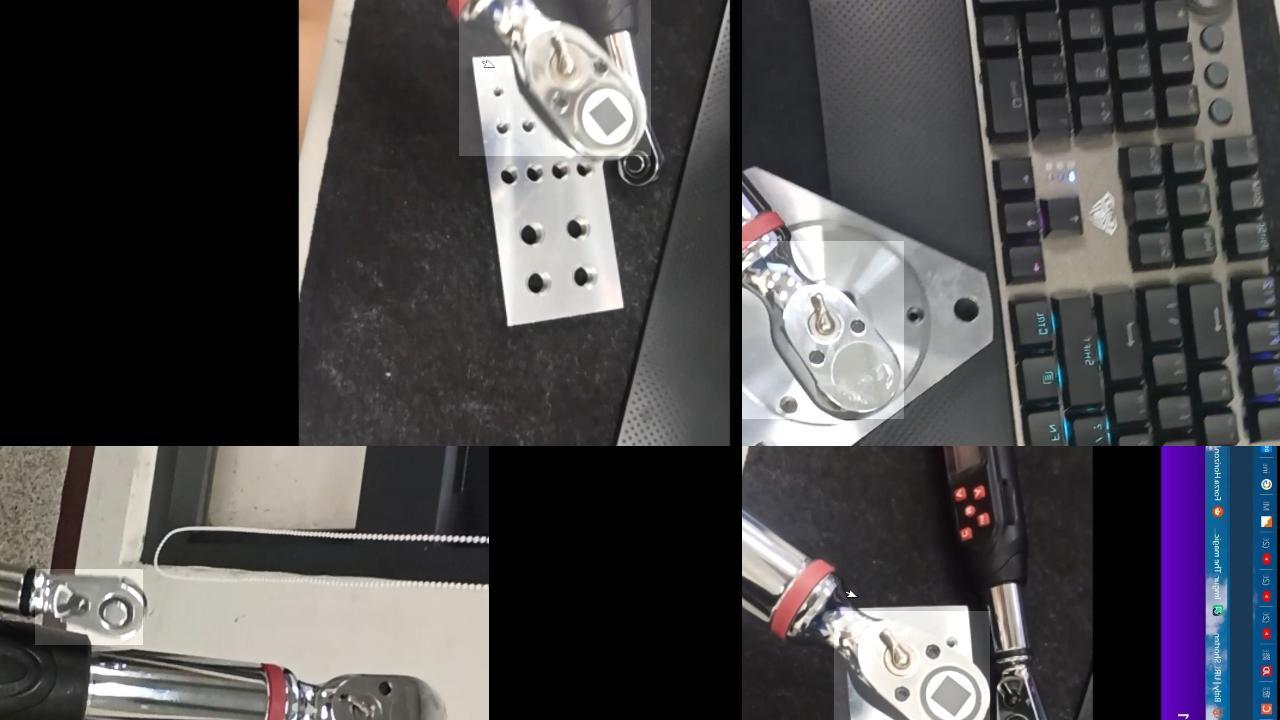Tool: (458, 0, 650, 156), (742, 241, 903, 419), (833, 611, 989, 720), (34, 569, 142, 645), (299, 669, 446, 720), (987, 666, 1047, 720)
hole: (510, 216, 556, 245), (560, 212, 604, 241), (944, 291, 986, 320), (566, 263, 609, 290), (518, 269, 559, 295), (544, 160, 578, 184), (571, 155, 597, 183), (493, 165, 526, 187), (779, 396, 804, 421), (524, 162, 553, 183), (899, 301, 924, 319), (492, 121, 514, 135), (521, 117, 543, 130), (488, 87, 508, 98)
